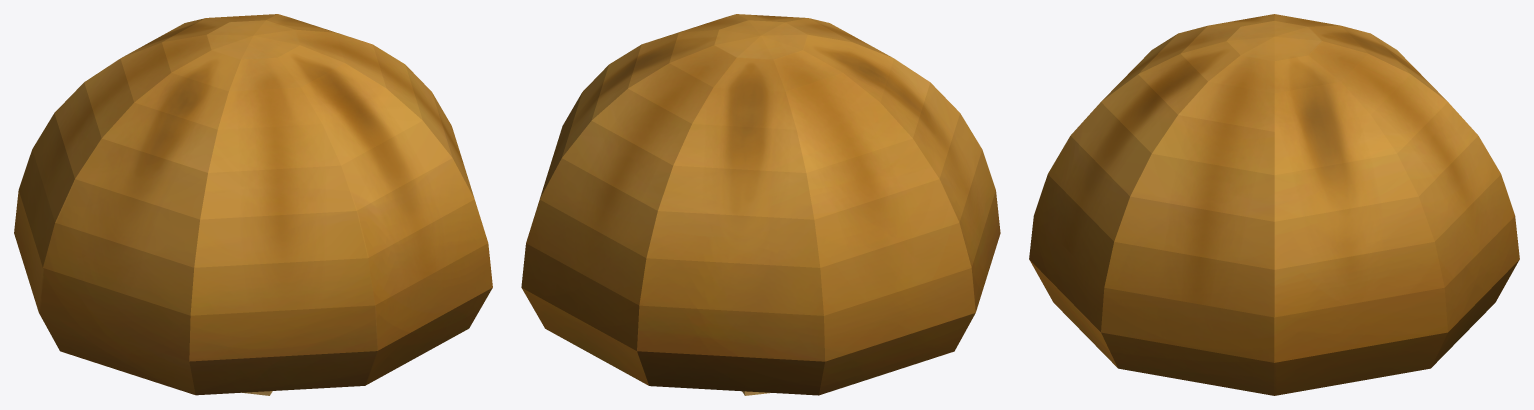
Rendered from small_tree.fbx.
3 views of the same model, side by side, from view 1: azimuth 30°, elevation 25°; view 2: azimuth 150°, elevation 25°; view 3: azimuth 270°, elevation 25° (orthographic).
Parts seen in each view (by area): view 1: Sphere; view 2: Sphere; view 3: Sphere.
Boxes of the visible parts, x1,y1,x2,y2 form: Sphere: (14, 14, 492, 395); Sphere: (521, 14, 1000, 395); Sphere: (1029, 14, 1519, 395).
Size of the model in its own units: 232 by 180 by 232.
Materials: 2 (2 with a texture image).
